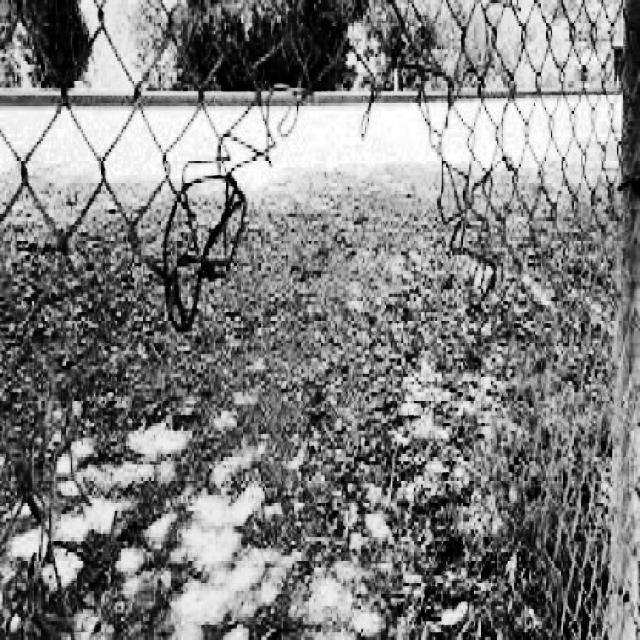anomaly-fence: (19, 55, 503, 640)
